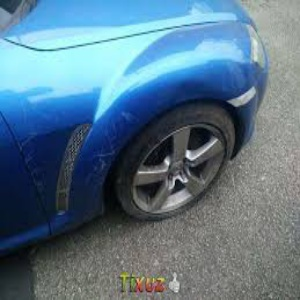bumper: (37, 107, 128, 223)
